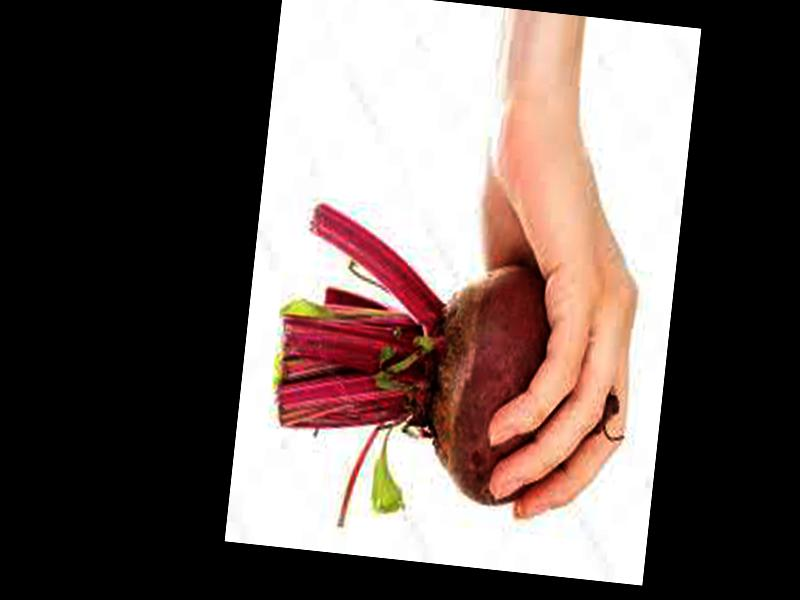Beet: (260, 201, 639, 554)
